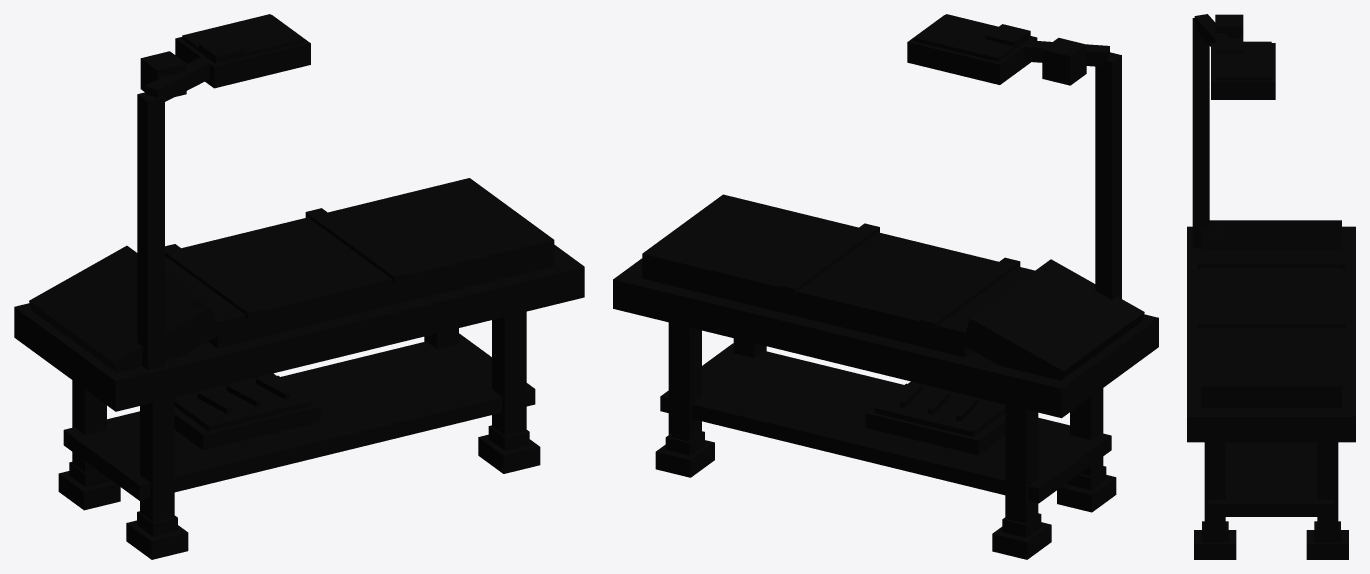
File: surgery_table.obj
3 views of the same model, side by side, from view 1: azimuth 30°, elevation 25°; view 2: azimuth 150°, elevation 25°; view 3: azimuth 270°, elevation 25° (orthographic). The views are drawn at different scales.
Size of the model in its own units: 0.875 by 0.849 by 0.3281.
